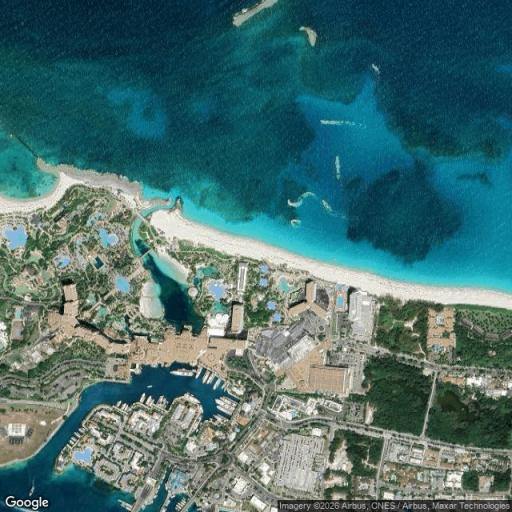ship: (215, 399, 236, 413), (114, 496, 133, 511), (191, 415, 203, 434), (220, 397, 238, 408), (183, 393, 202, 403), (27, 482, 38, 499), (217, 405, 233, 416), (154, 393, 167, 406), (169, 370, 194, 376), (212, 379, 222, 392), (137, 392, 147, 404), (194, 367, 203, 380), (206, 372, 215, 385), (213, 414, 226, 423), (76, 425, 86, 435), (71, 429, 82, 438), (119, 400, 128, 411), (203, 371, 211, 383), (68, 435, 80, 442), (115, 399, 124, 408), (122, 403, 130, 413), (145, 395, 152, 406), (144, 382, 155, 389), (176, 501, 185, 509), (67, 440, 75, 447), (180, 498, 187, 505), (175, 504, 183, 510), (199, 405, 203, 414), (178, 501, 185, 506)
